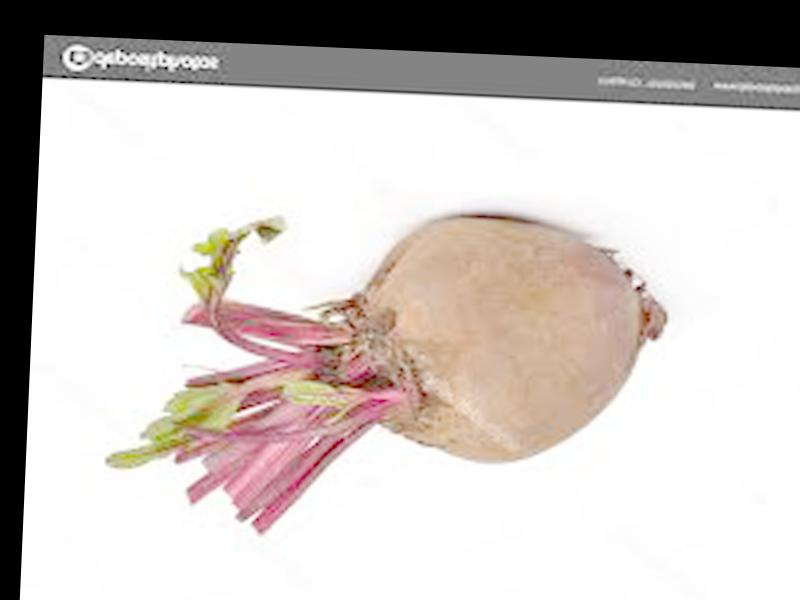Beet: (102, 196, 672, 551)
